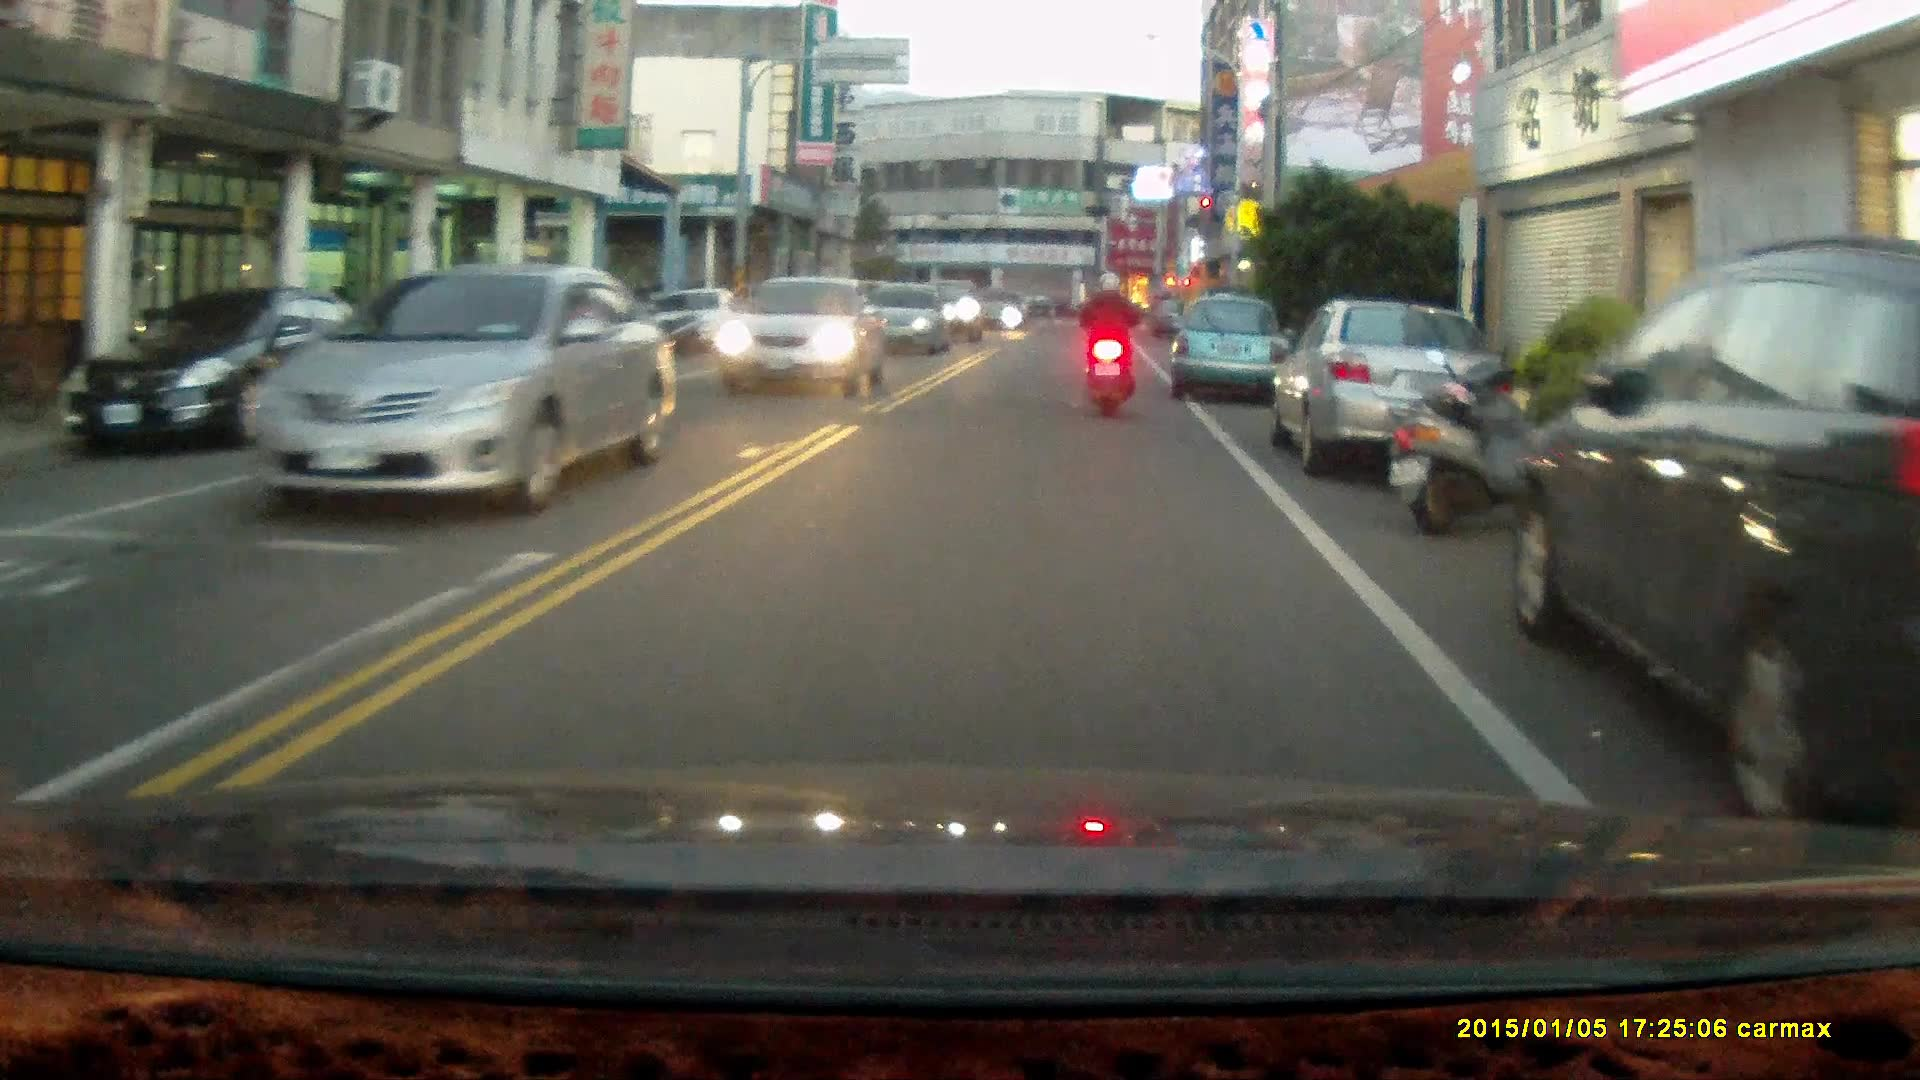rider: (1080, 267, 1139, 418)
vehicle: (1511, 232, 1920, 792), (235, 262, 681, 516), (52, 286, 406, 461), (1278, 294, 1500, 469), (713, 275, 888, 397), (1167, 293, 1296, 404), (854, 284, 949, 357)
